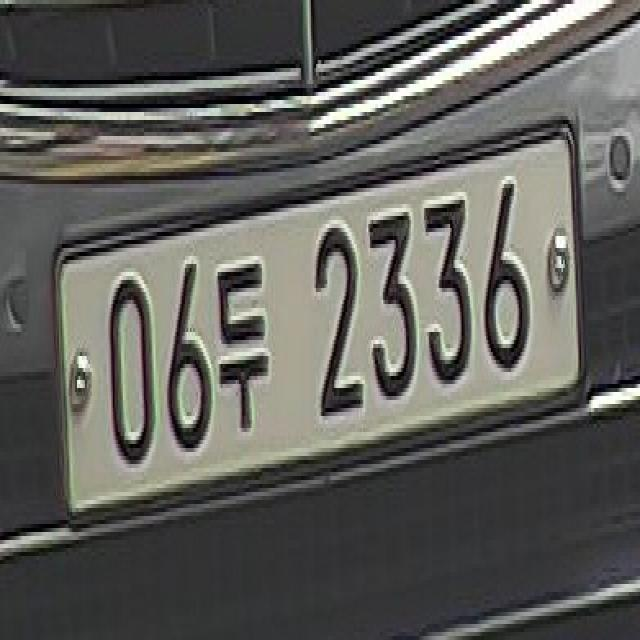0: (106, 266, 159, 478)
2: (306, 213, 366, 432)
3: (368, 193, 419, 418), (423, 180, 476, 394)
6: (484, 162, 536, 384), (166, 250, 216, 470)
du: (217, 236, 274, 456)
license_plate: (43, 86, 609, 560)
